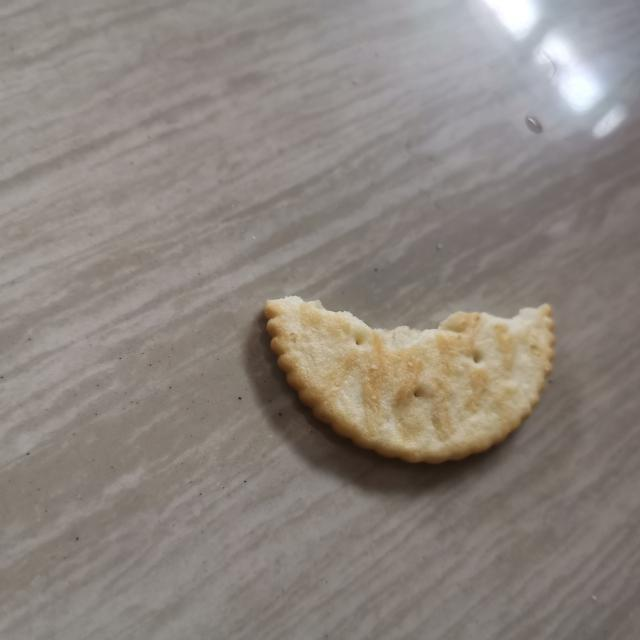Broken: (263, 293, 557, 464)
